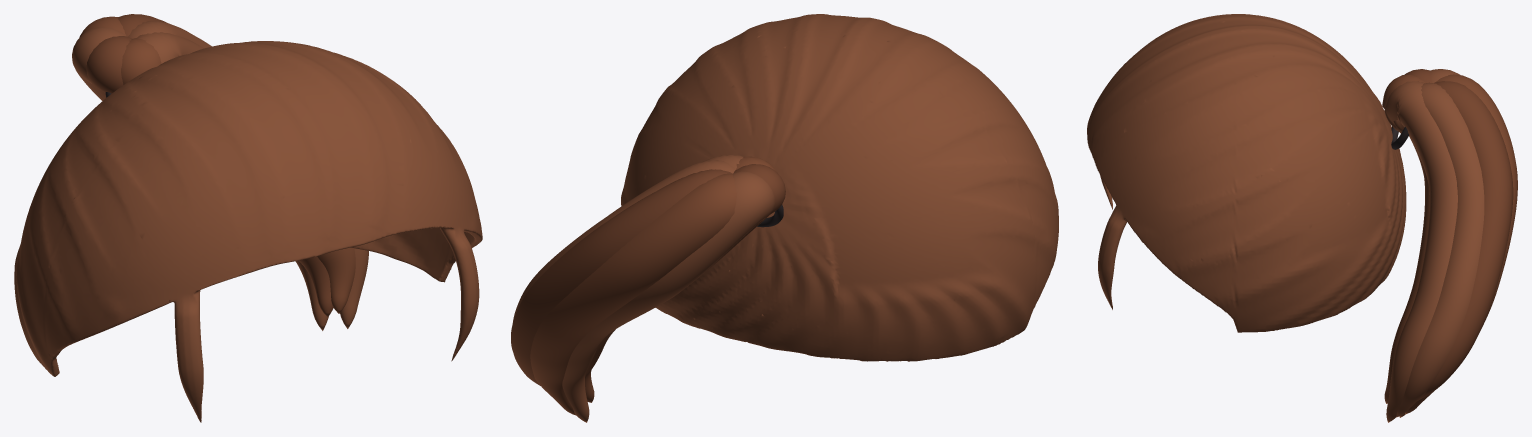
The model's file is Feminine-ponytail-cap-hair.glb.
3 renders of one model, left to right at view 1: azimuth 30°, elevation 25°; view 2: azimuth 150°, elevation 25°; view 3: azimuth 270°, elevation 25°, orthographic. The views are drawn at different scales.
Parts seen in each view (by area): view 1: Hair / Pony continuous rooted flow211, Hair / Pony layered tail211 4, Hair / Pony layered tail211 5, Hair / Pony layered tail211 6, Hair / Pony layered tail211 3, Hair / Pony layered tail211 0, Hair / Pony layered tail211 1; view 2: Hair / Pony continuous rooted flow211, Hair / Pony layered tail211 2, Hair / Pony layered tail211 1, Hair / Pony layered tail211 3, Hair / Pony layered tail211 0, Hair / Pony layered tail211 4; view 3: Hair / Pony continuous rooted flow211, Hair / Pony layered tail211 0, Hair / Pony layered tail211 6, Hair / Pony layered tail211 1, Hair / Pony layered tail211 2, Hair / Pony layered tail211 5.
Part boxes in pixels (x1,y1,x2,y2): Hair / Pony continuous rooted flow211: [14, 41, 482, 422]; Hair / Pony layered tail211 4: [86, 36, 333, 316]; Hair / Pony layered tail211 5: [121, 38, 355, 313]; Hair / Pony layered tail211 6: [134, 32, 368, 328]; Hair / Pony layered tail211 3: [72, 27, 328, 330]; Hair / Pony layered tail211 0: [128, 21, 211, 48]; Hair / Pony layered tail211 1: [118, 14, 166, 36]; Hair / Pony continuous rooted flow211: [621, 14, 1058, 361]; Hair / Pony layered tail211 2: [530, 173, 736, 415]; Hair / Pony layered tail211 1: [511, 169, 732, 385]; Hair / Pony layered tail211 3: [562, 171, 774, 422]; Hair / Pony layered tail211 0: [513, 160, 735, 321]; Hair / Pony layered tail211 4: [585, 164, 785, 402]; Hair / Pony continuous rooted flow211: [1087, 14, 1406, 332]; Hair / Pony layered tail211 0: [1393, 82, 1484, 417]; Hair / Pony layered tail211 6: [1384, 81, 1457, 422]; Hair / Pony layered tail211 1: [1418, 81, 1513, 400]; Hair / Pony layered tail211 2: [1405, 74, 1517, 414]; Hair / Pony layered tail211 5: [1382, 74, 1429, 403].
Bounding box in the file's own units: 1.02 × 0.8609 × 1.06.
